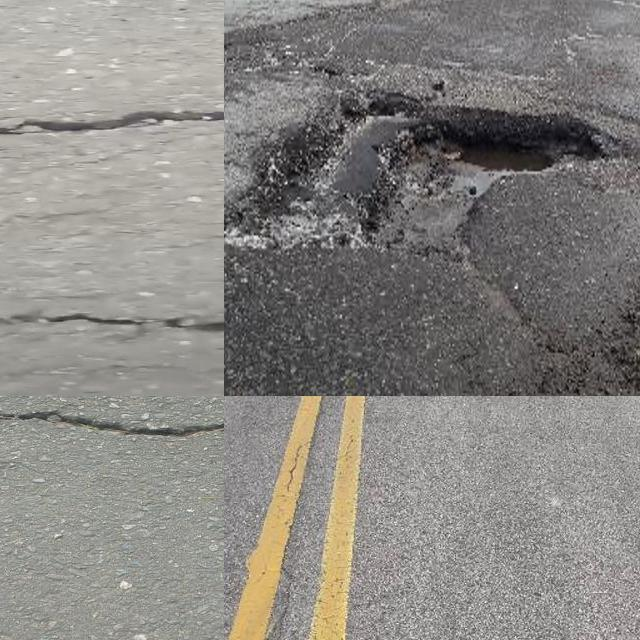Lubang: (224, 88, 612, 304)
Melintang: (0, 85, 224, 149), (0, 399, 224, 454), (0, 298, 224, 351)
